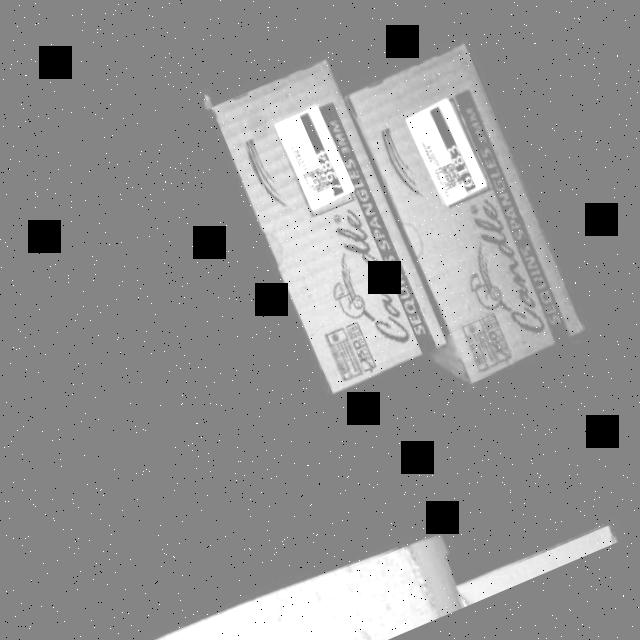box: (217, 51, 450, 392), (351, 47, 583, 376)
